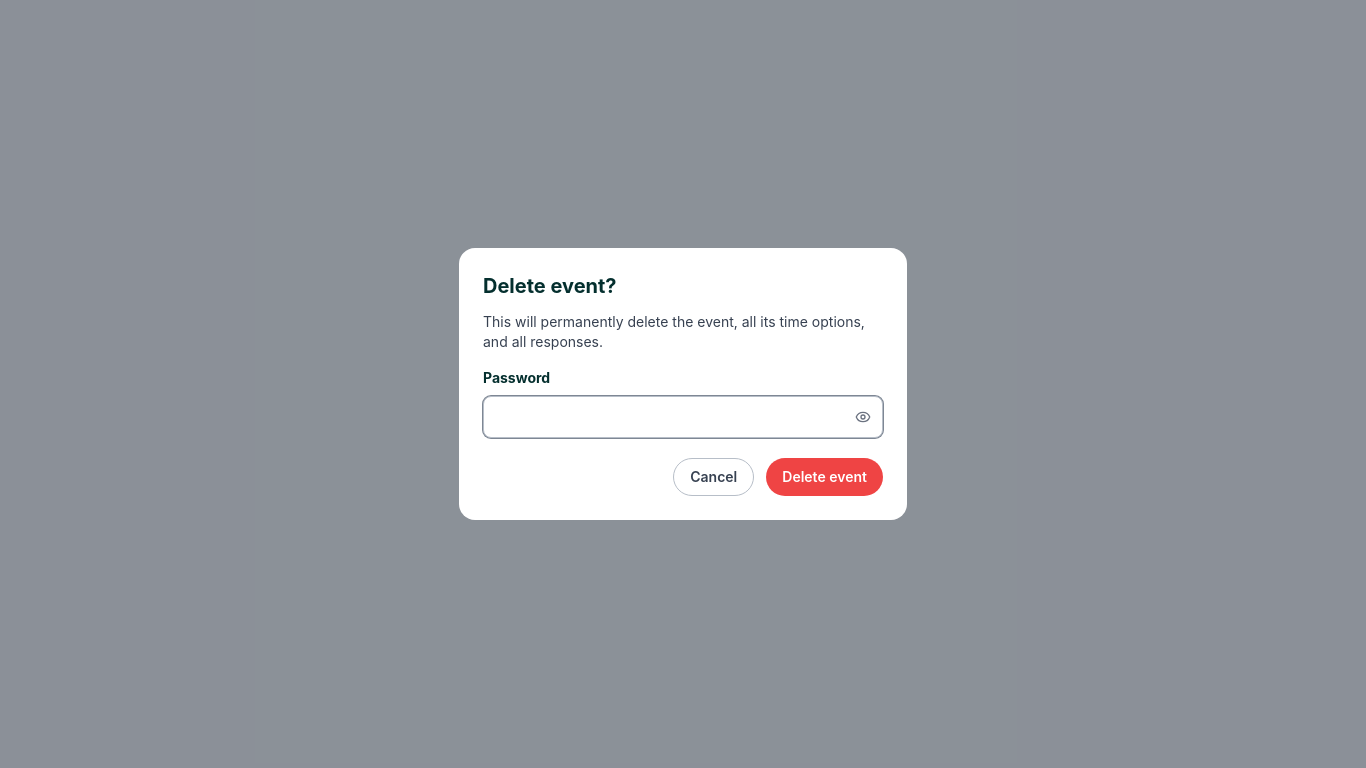
Test: EventDeleteForm › requires a password before deleting a protected event
This screenshot has width=1366, height=768.
Click the button "Delete event".
click(825, 477)  # box [766,458,883,496]
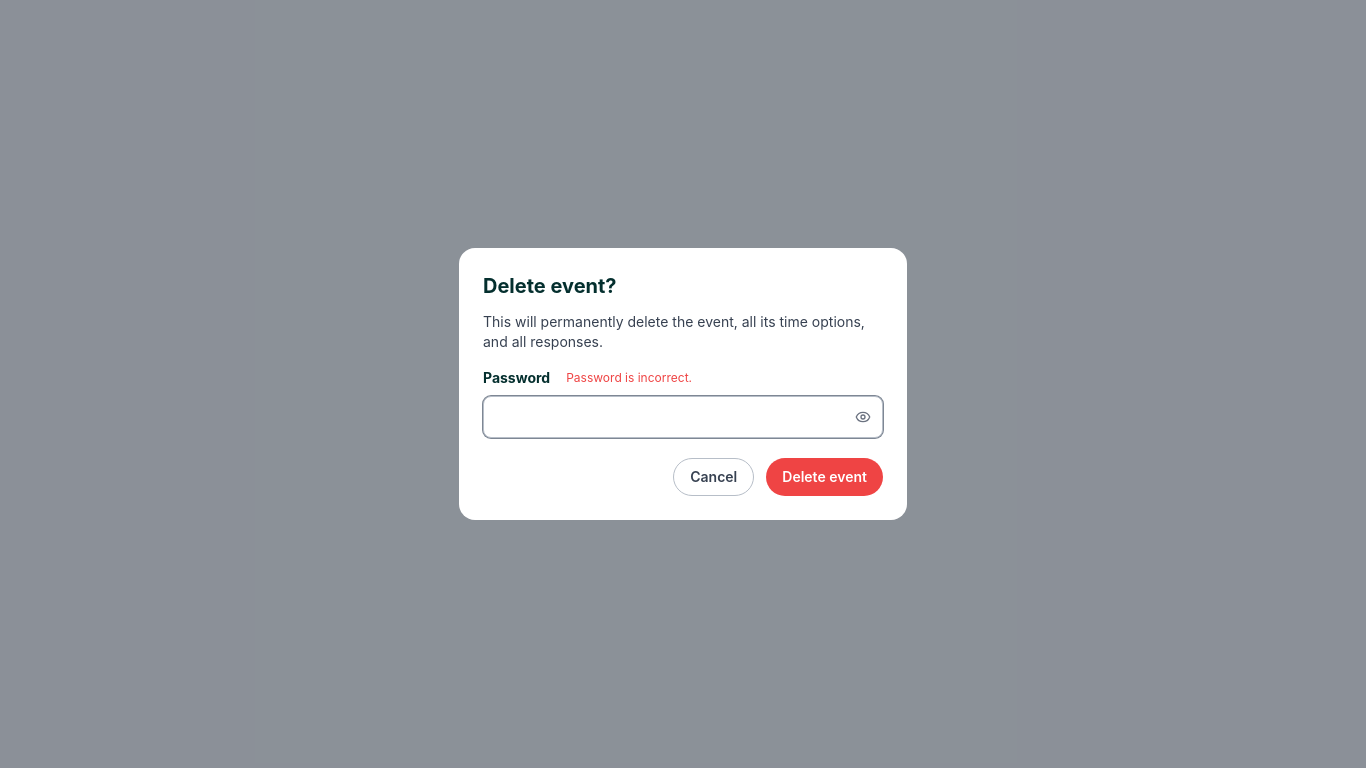
Now the text "Password is incorrect." is shown, box [566,370,692,386]
